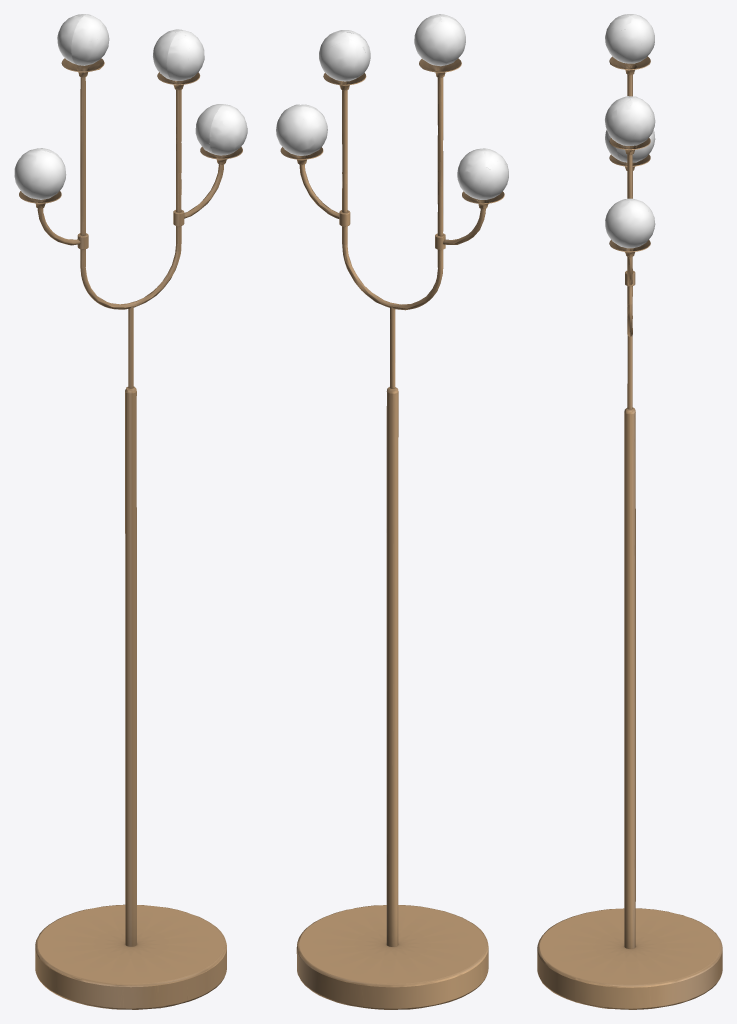
The picture shows the model from 3 angles, left to right: view 1: azimuth 30°, elevation 25°; view 2: azimuth 150°, elevation 25°; view 3: azimuth 270°, elevation 25°; orthographic projection. The views are drawn at different scales.
Visible parts, largest first — view 1: solid_001, lightmesh_14787; view 2: solid_001, lightmesh_14787; view 3: solid_001, lightmesh_14787.
Boxes of the visible parts, x1=… form: solid_001: x1=19, y1=58, x2=242, y2=1009; lightmesh_14787: x1=14, y1=14, x2=247, y2=199; solid_001: x1=280, y1=58, x2=504, y2=1009; lightmesh_14787: x1=276, y1=14, x2=508, y2=199; solid_001: x1=537, y1=56, x2=722, y2=1009; lightmesh_14787: x1=605, y1=14, x2=655, y2=248.
Size of the model in its own units: 0.4369 by 1.78 by 0.3206.
1 material, 1 textured.
